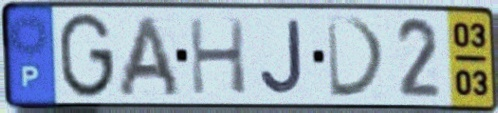2: (393, 15, 443, 101)
A: (114, 13, 184, 99)
D: (323, 14, 390, 101)
G: (57, 10, 116, 101)
H: (186, 15, 250, 97)
J: (256, 17, 306, 98)
